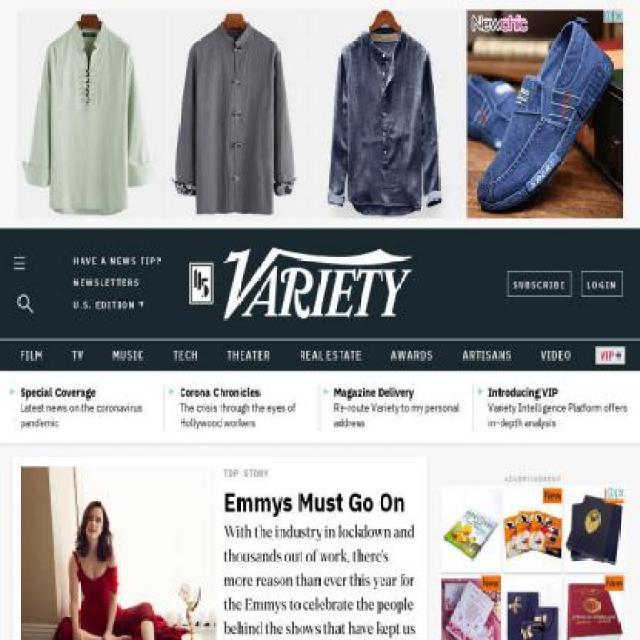button: (20, 467, 217, 639), (222, 247, 415, 319), (68, 252, 166, 272), (507, 269, 571, 297), (68, 274, 166, 292), (581, 269, 622, 297), (12, 284, 38, 322), (590, 345, 630, 364), (13, 246, 33, 280)
